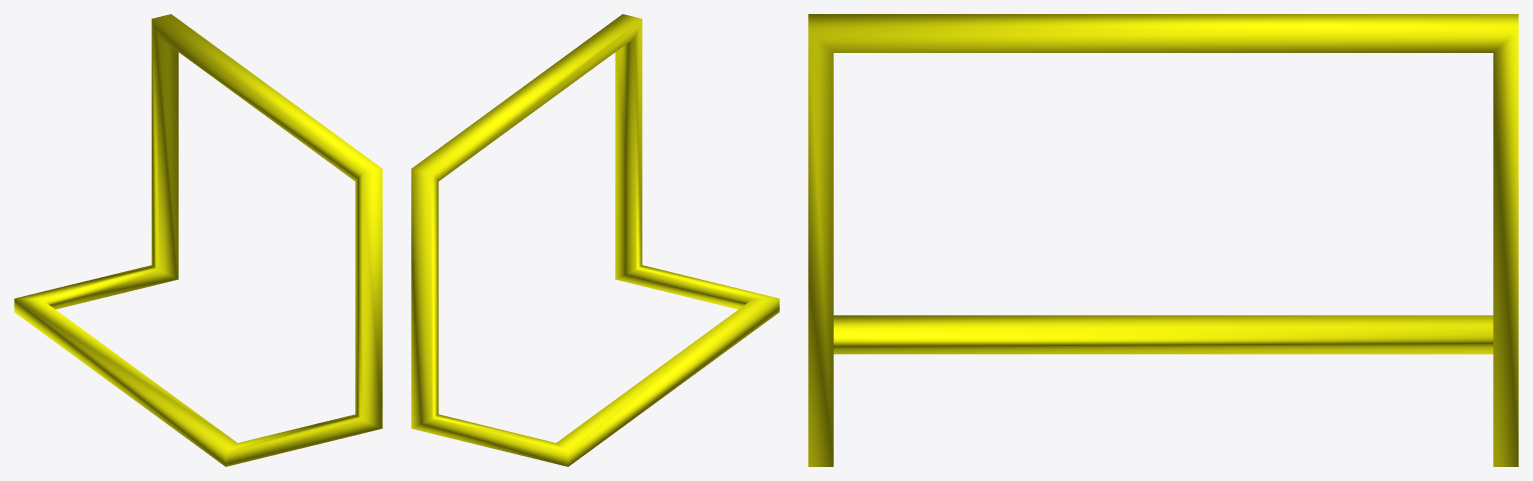
The model's file is Goalsally.006.dae.
3 renders of one model, left to right at view 1: azimuth 30°, elevation 25°; view 2: azimuth 150°, elevation 25°; view 3: azimuth 270°, elevation 25°, orthographic. The views are drawn at different scales.
Visible parts, largest first — view 1: collision_0_field_1_2; view 2: collision_0_field_1_2; view 3: collision_0_field_1_2.
Boxes of the visible parts, left/top/right/bottom form: collision_0_field_1_2: left=14, top=14, right=382, bottom=466; collision_0_field_1_2: left=411, top=14, right=779, bottom=466; collision_0_field_1_2: left=808, top=14, right=1518, bottom=466.
Bounding box in the file's own units: 1.59 × 3.71 × 2.52.
